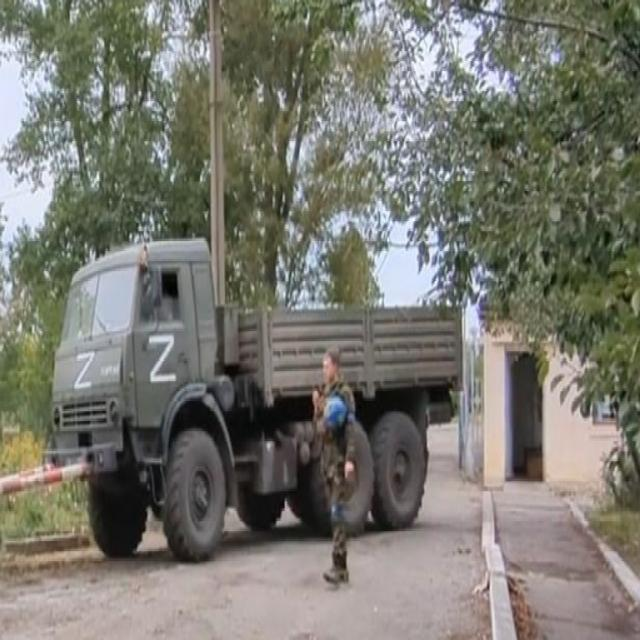TRUCK: (42, 233, 462, 562)
